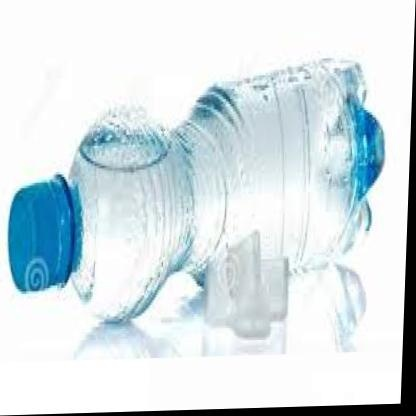trash: (8, 60, 384, 354)
